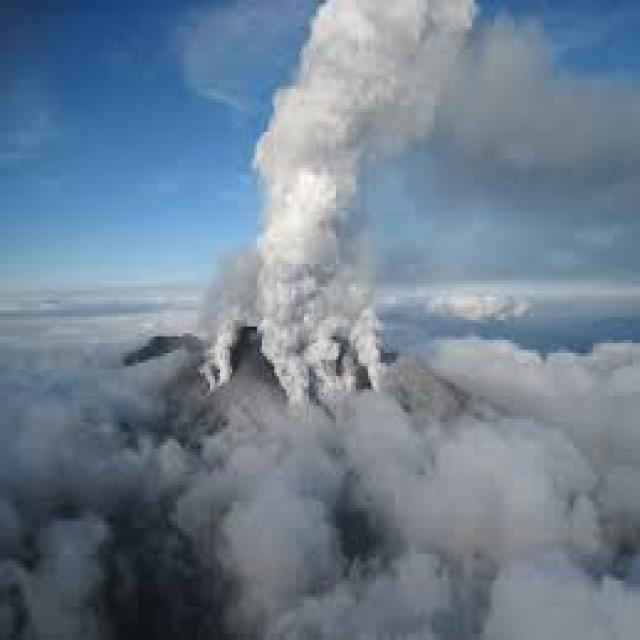explosion: (149, 14, 562, 476)
